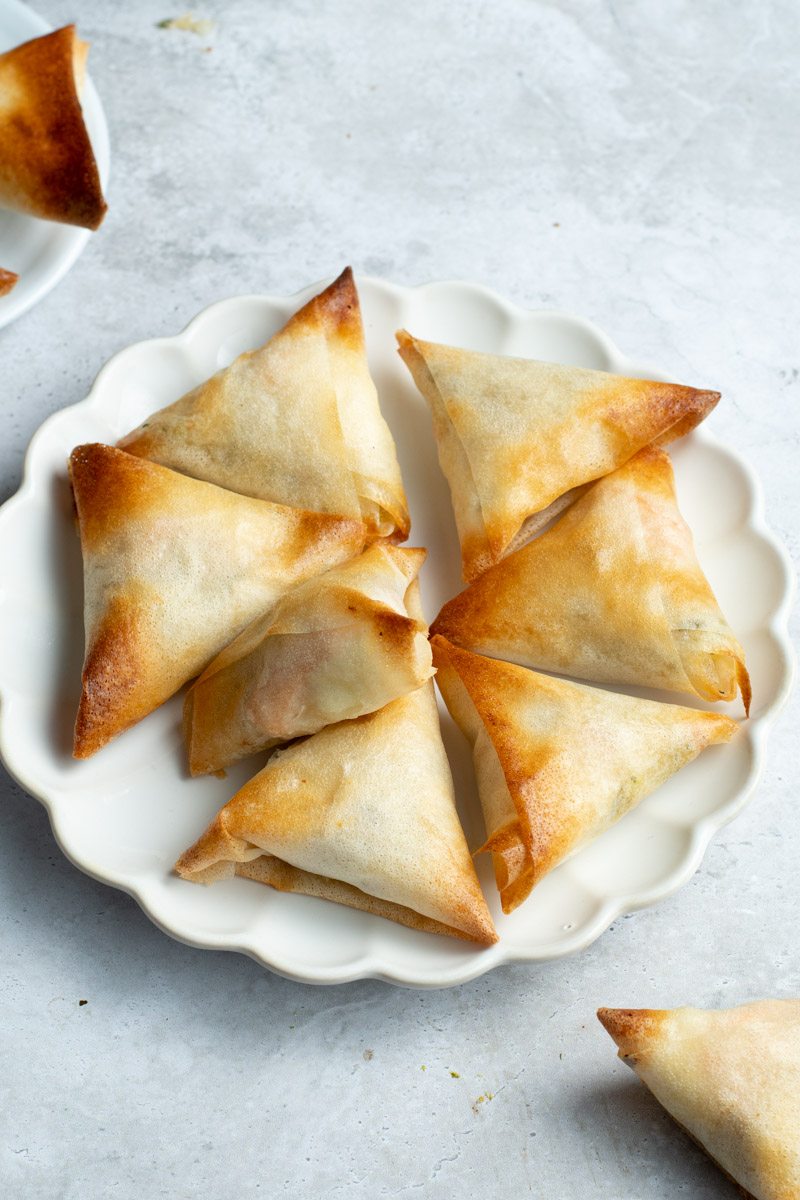samosa: (55, 422, 370, 755), (152, 690, 500, 952), (438, 445, 768, 712), (438, 628, 735, 920), (130, 255, 415, 470), (390, 318, 707, 508), (590, 990, 800, 1200)
